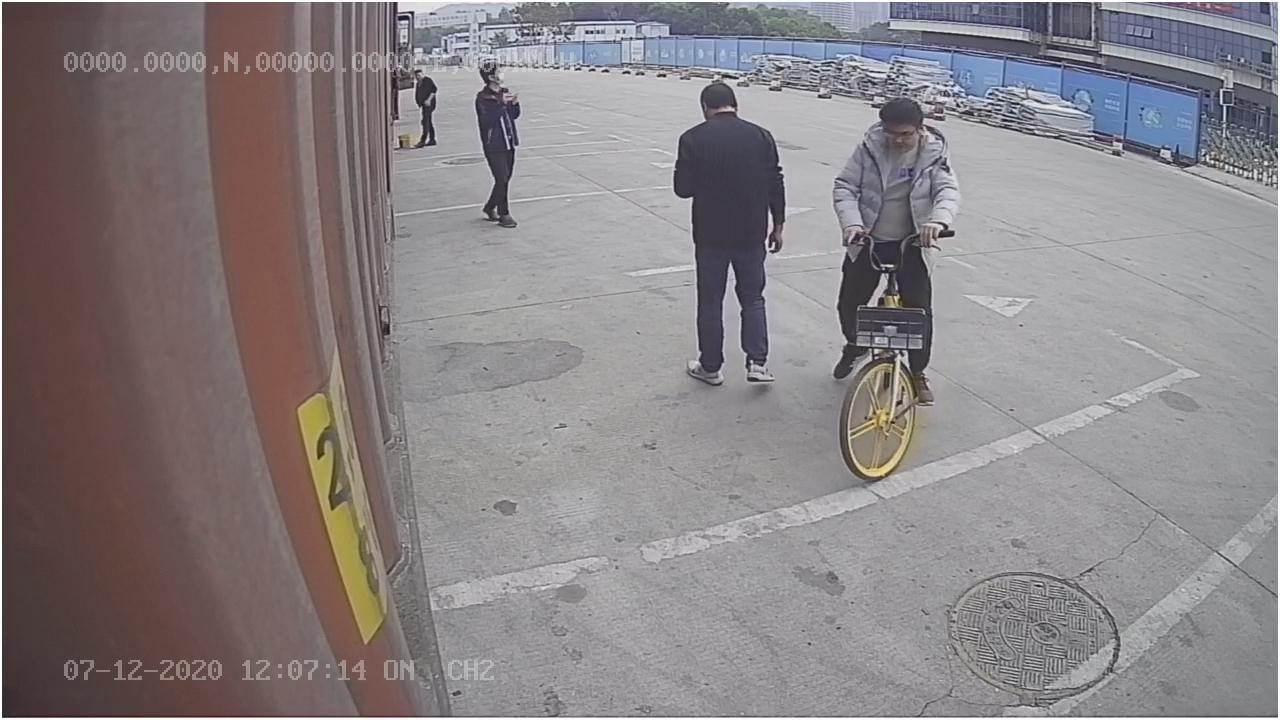person: (675, 77, 787, 388)
